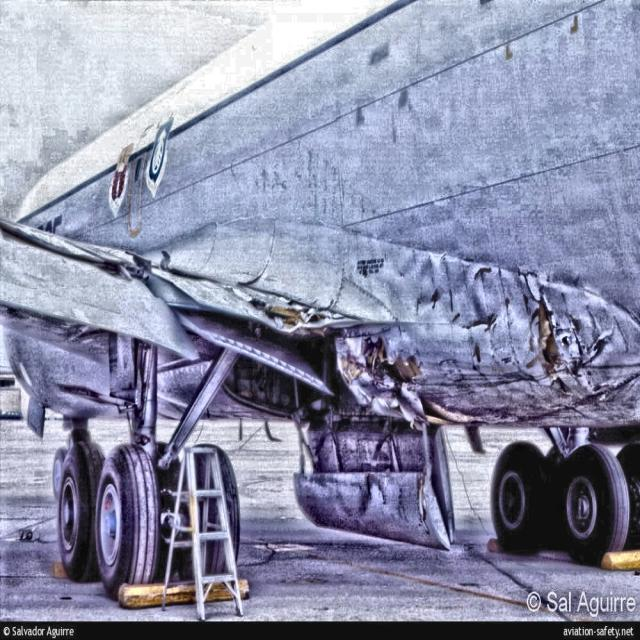crack: (533, 291, 575, 401)
dent: (399, 252, 496, 336)
